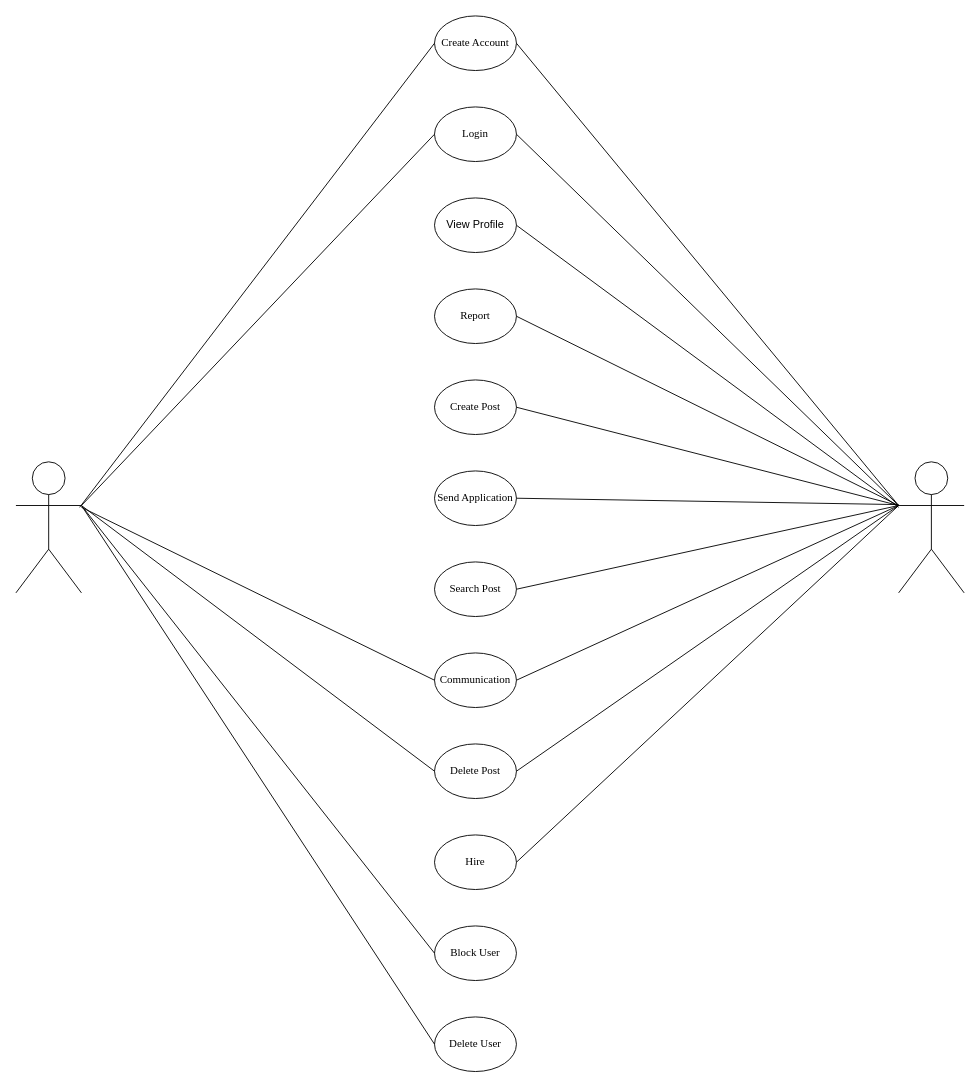
This 980x1087 diagram has some shape labels left out. The shapes that lost their labels are listed below. From the top down, each one's centre as x and y in pixels, then its label:
At point (48, 527): "Admin".
At point (931, 527): "User".
